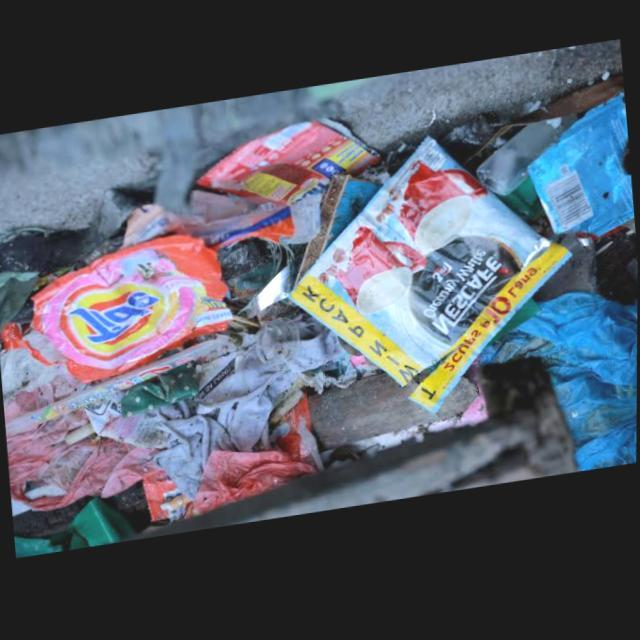wrapper: (291, 141, 571, 417), (0, 237, 233, 385), (191, 122, 381, 211), (526, 99, 634, 246)
